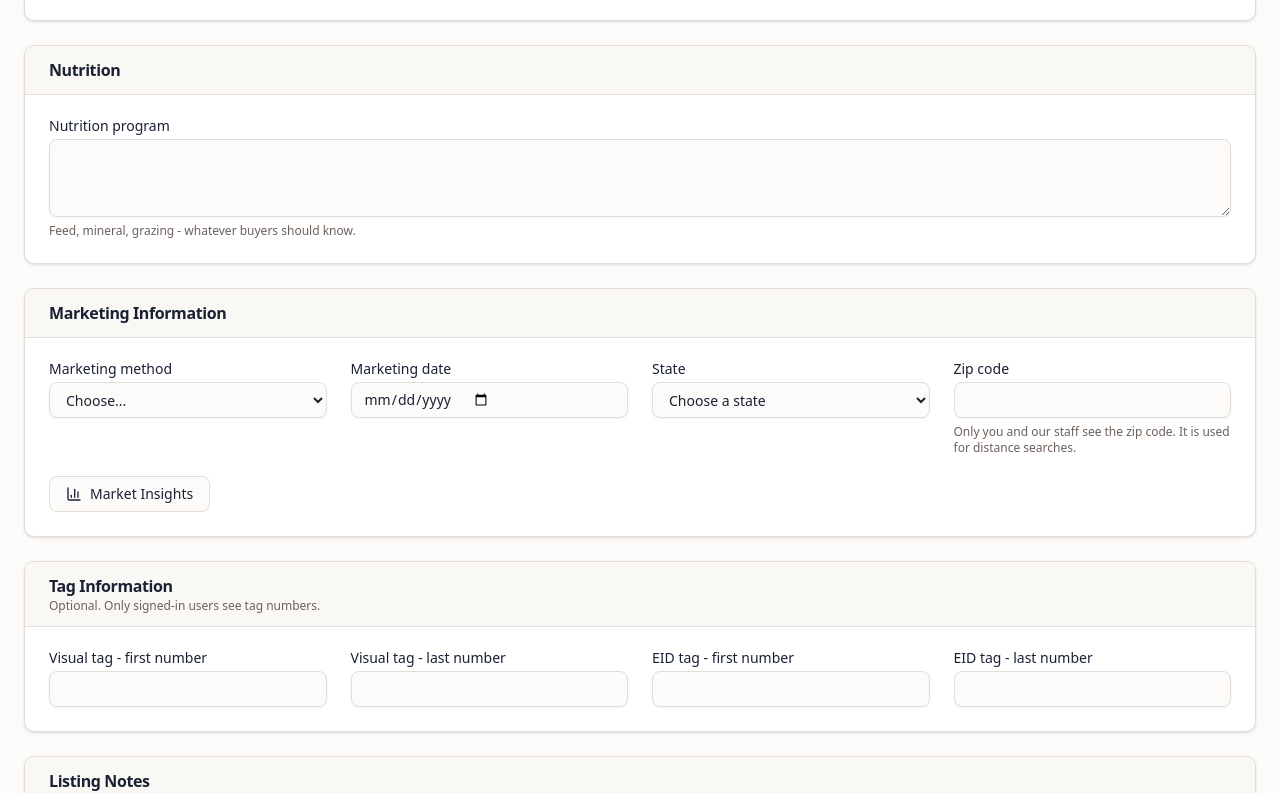
Test: feeder listing form › shows the auction market box only for auction methods
The image size is (1280, 793).
(page scrolled)
Expected: the field labelled "Auction market" is not shown
Select "Auction" in the dropdown labelled "Marketing method" at (188,400), box [49,382,326,418]
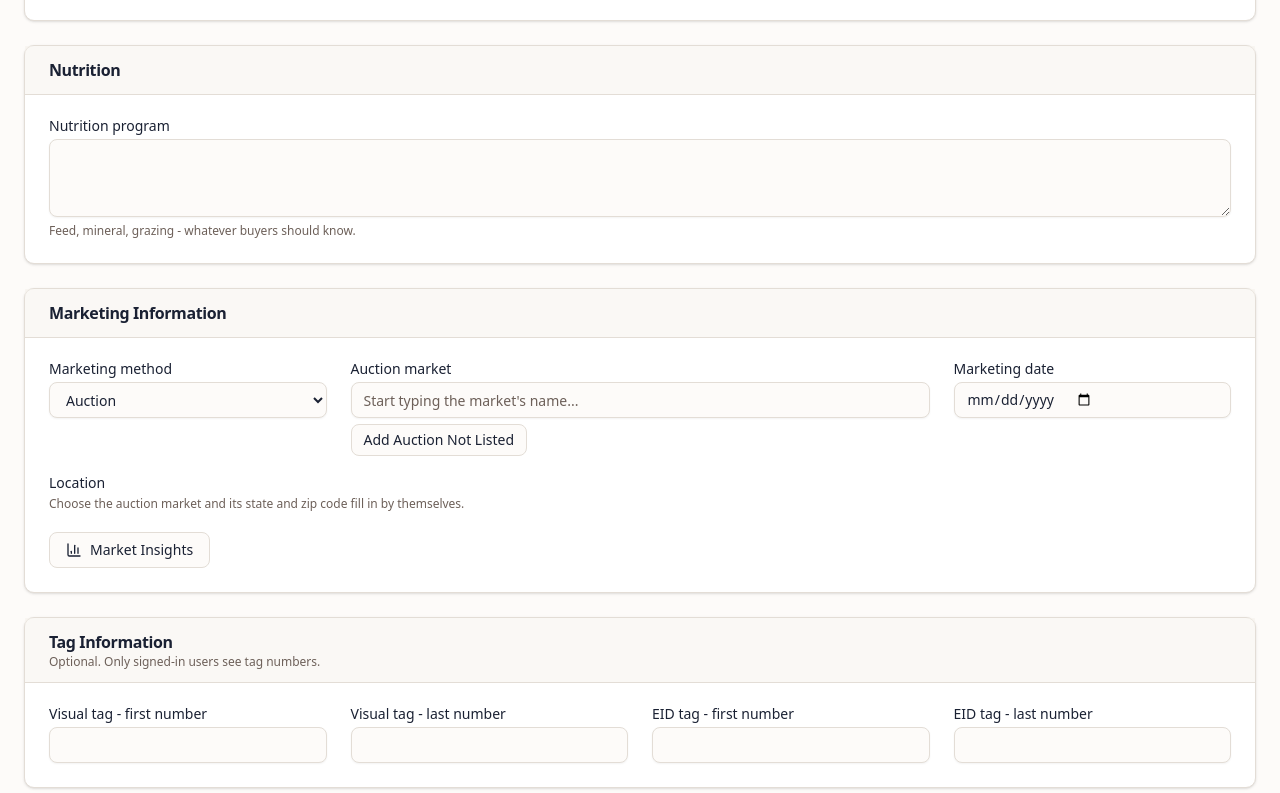
Expected: the field labelled "Auction market" is shown, [350,382,930,418]
Select "Off Ranch" in the dropdown labelled "Marketing method" at (188,400), box [49,382,326,418]
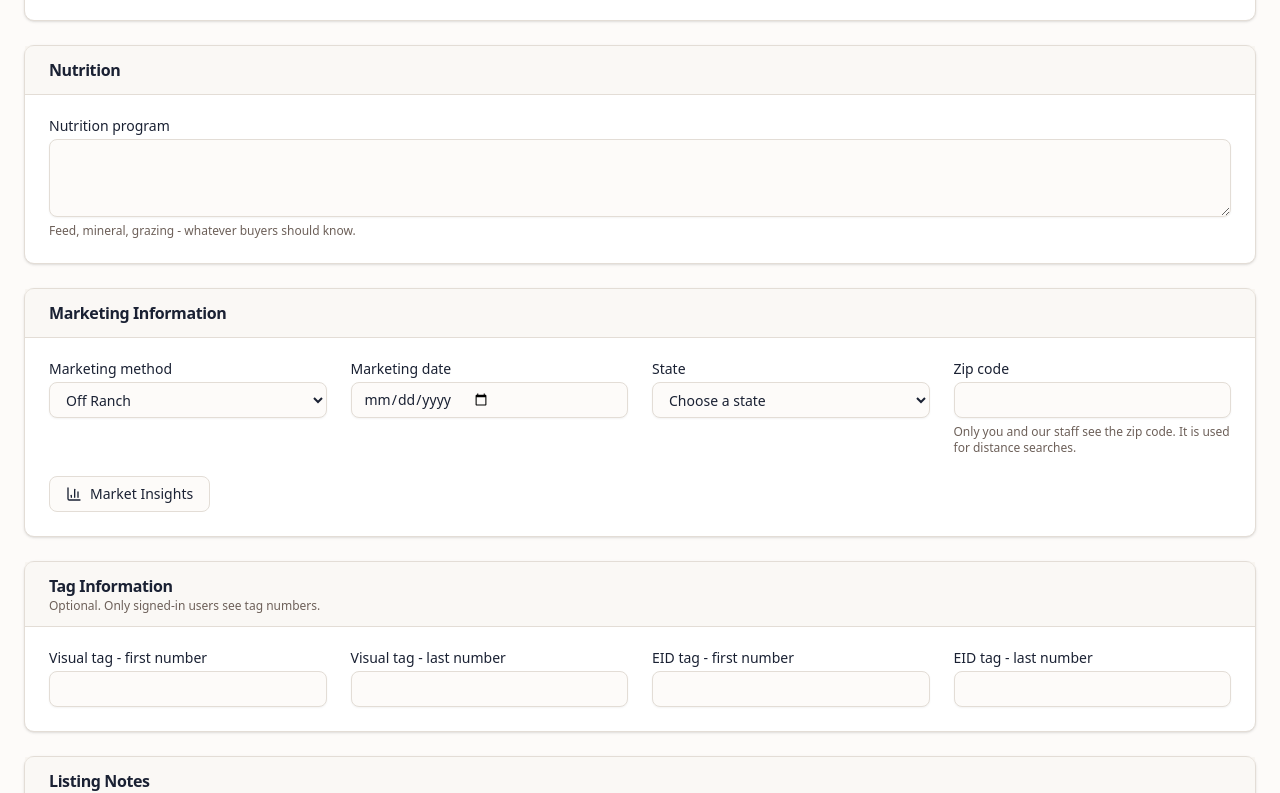
Expected: the label labelled "Auction market" is gone
